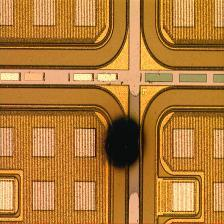PARTICLE: (90, 109, 158, 177)
